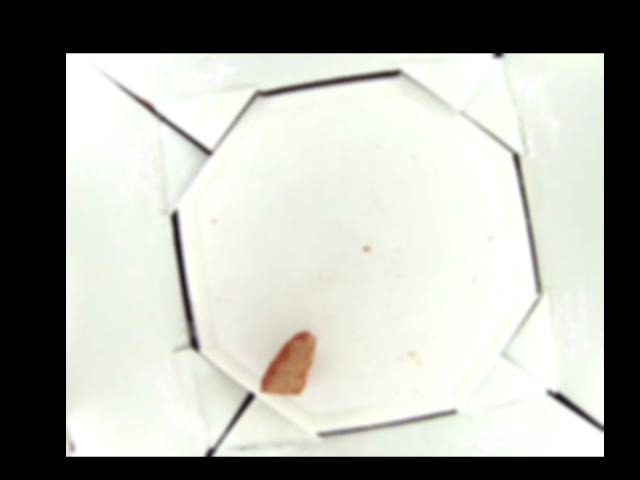Brisk: (257, 331, 315, 395)
